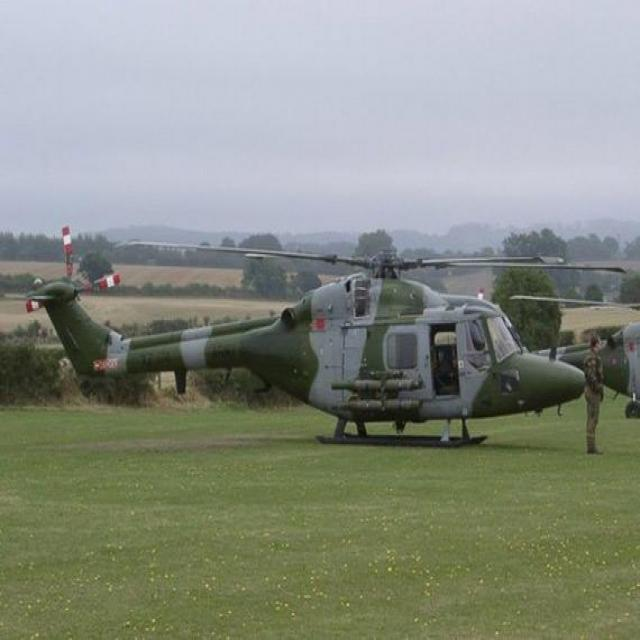MIL_HELO: (15, 229, 638, 466)
